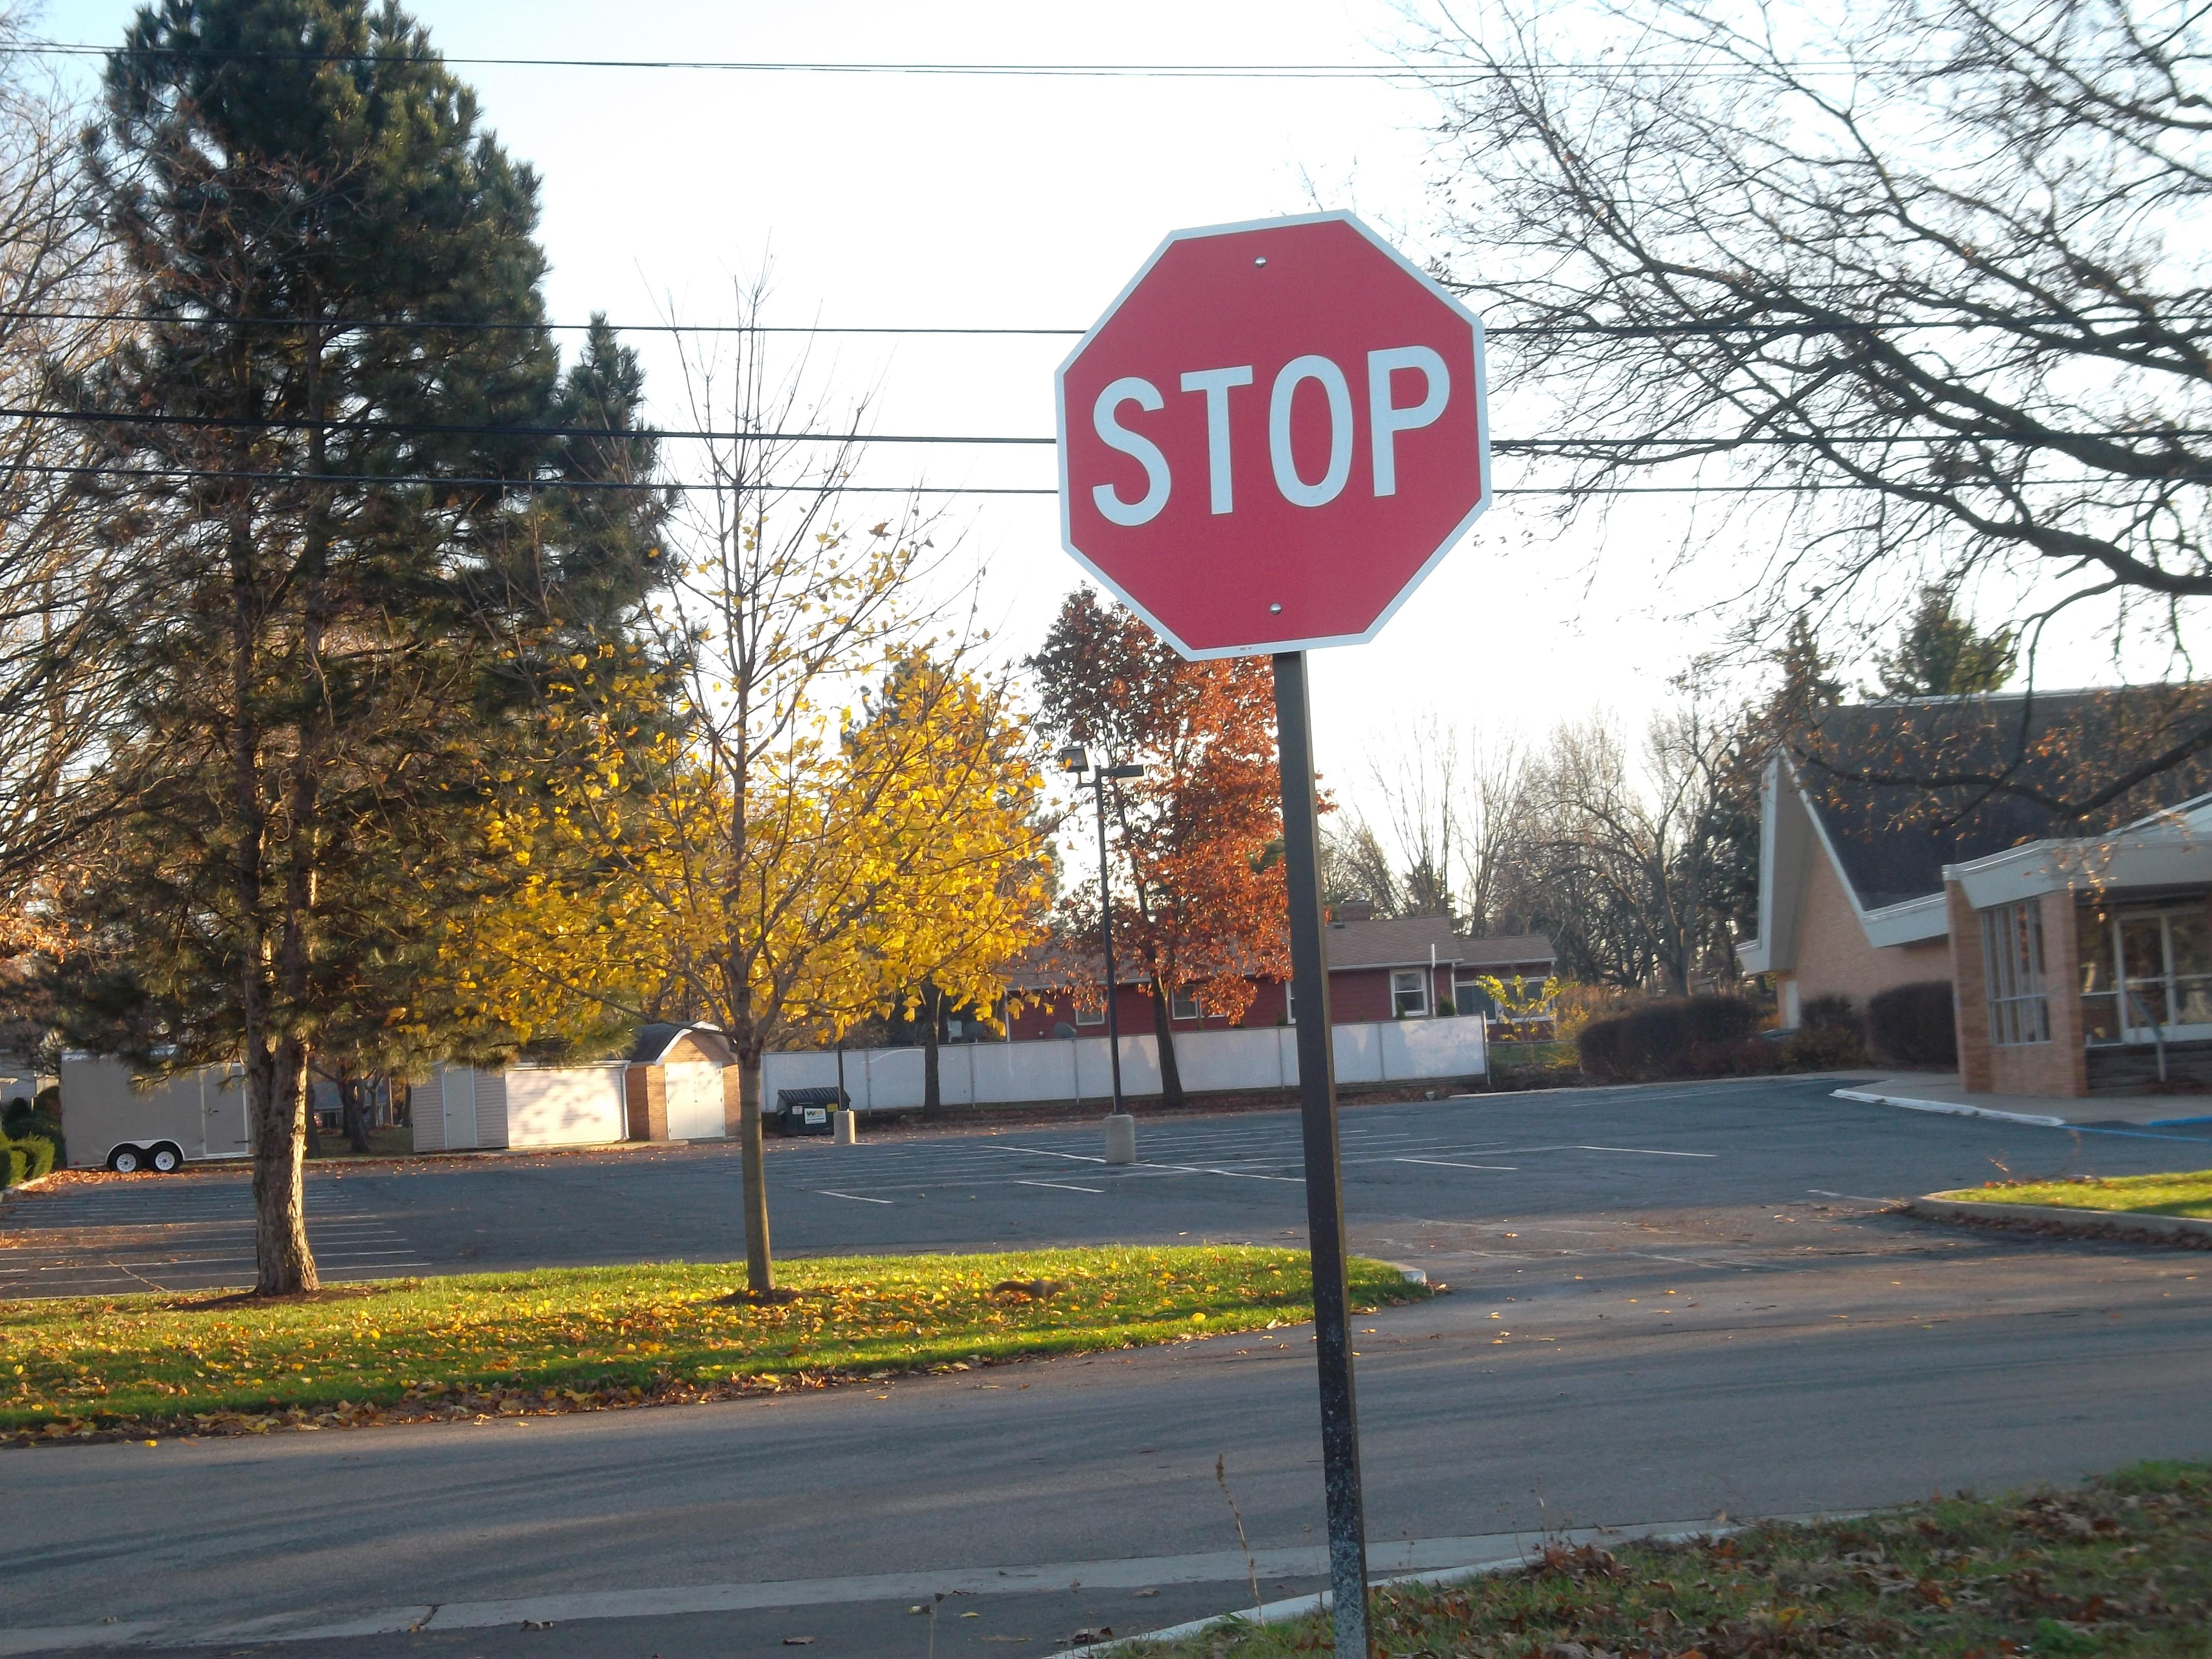stop: (1047, 206, 1501, 667)
